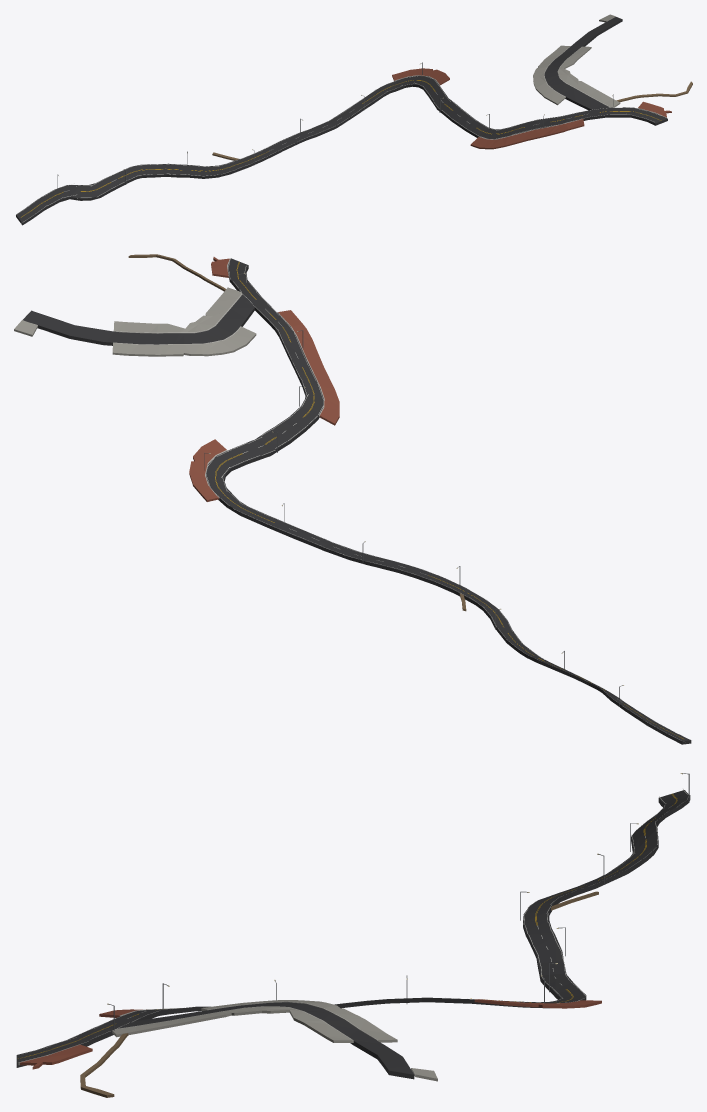
3 renders of one model, top to bottom at view 1: azimuth 30°, elevation 25°; view 2: azimuth 150°, elevation 25°; view 3: azimuth 270°, elevation 25°, orthographic. The views are drawn at different scales.
Bounding box in the file's own units: 294 × 66.16 × 161.
